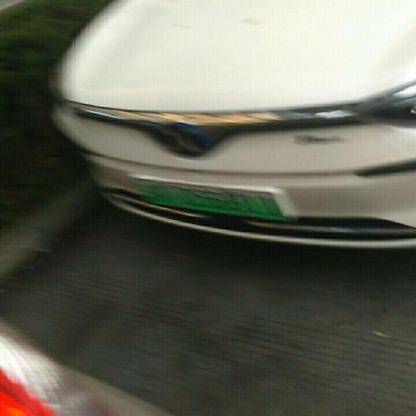lp: (130, 177, 290, 220)
